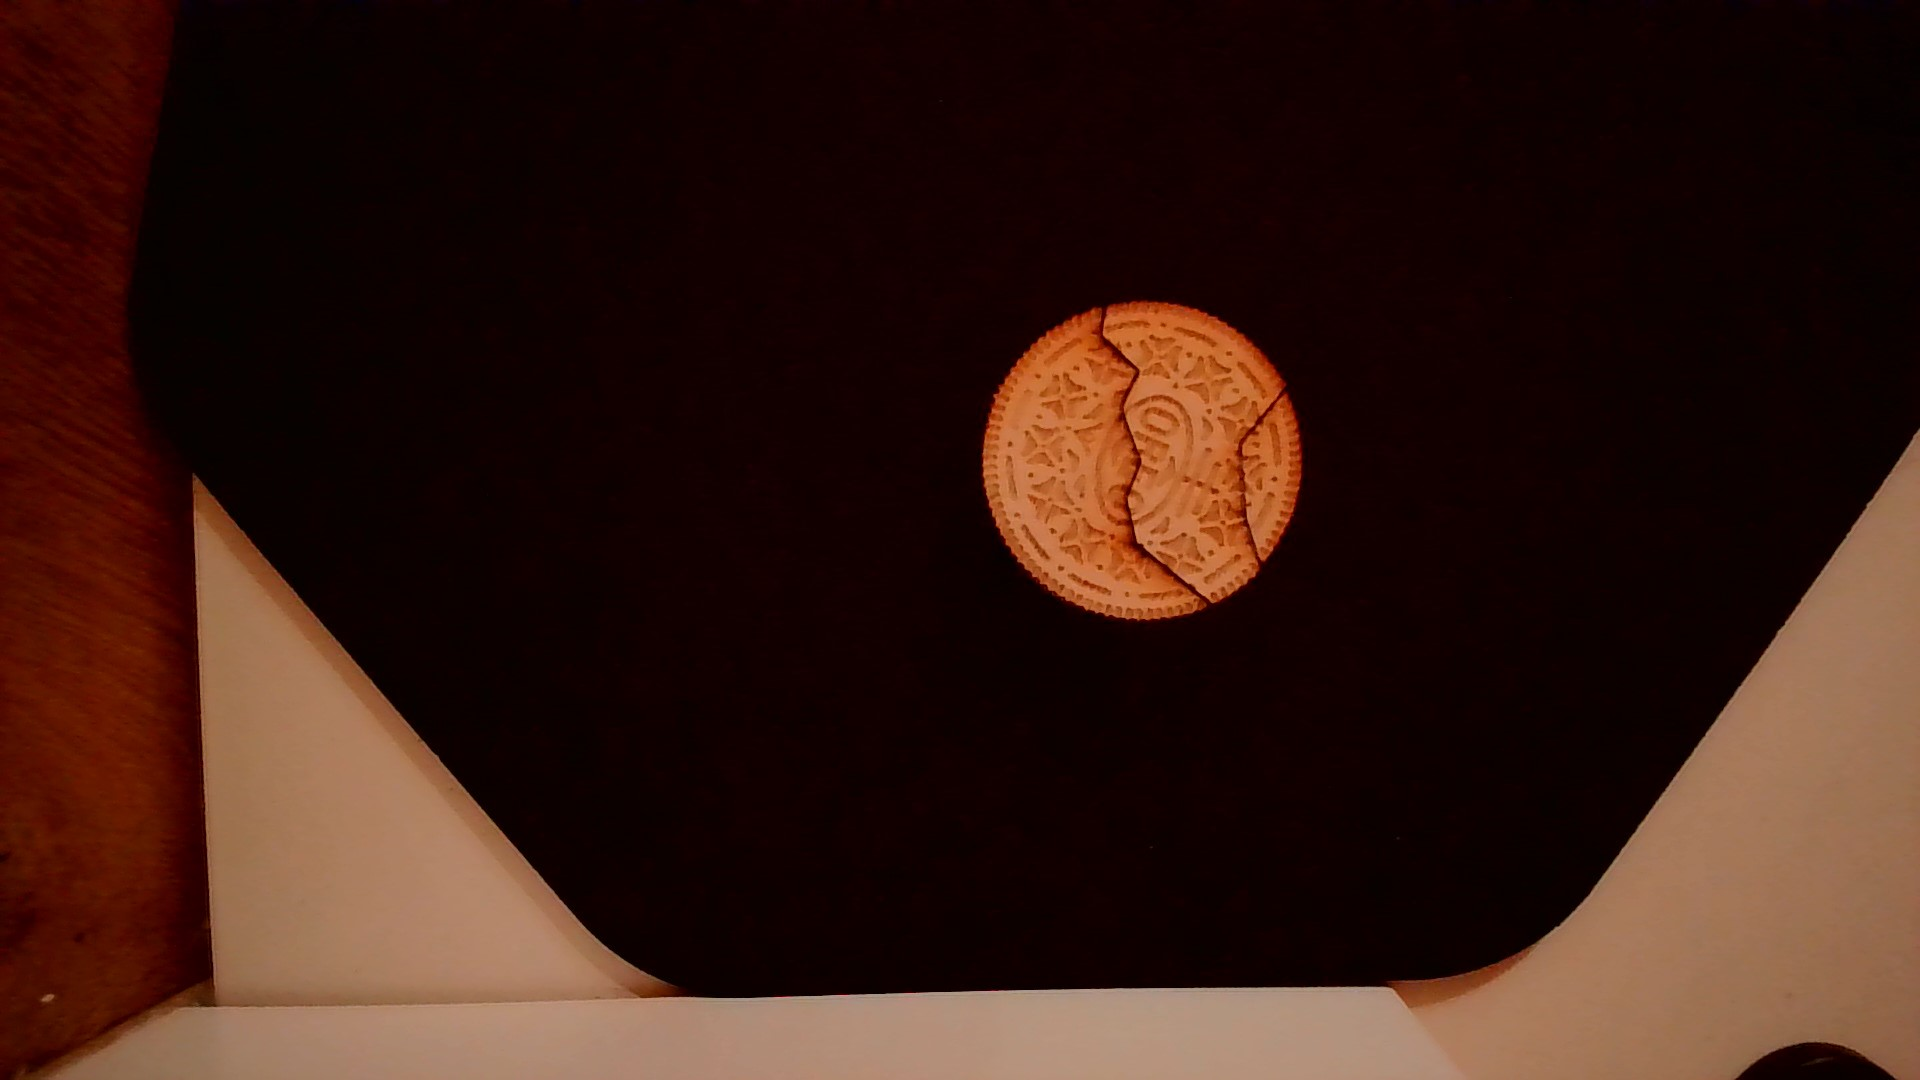Fissure: (1087, 309, 1220, 612), (1226, 372, 1300, 593)
Oréo: (976, 294, 1305, 622)
